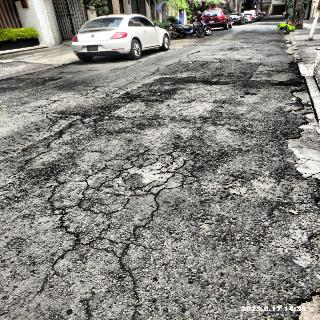alligator-crack: (30, 151, 177, 294)
